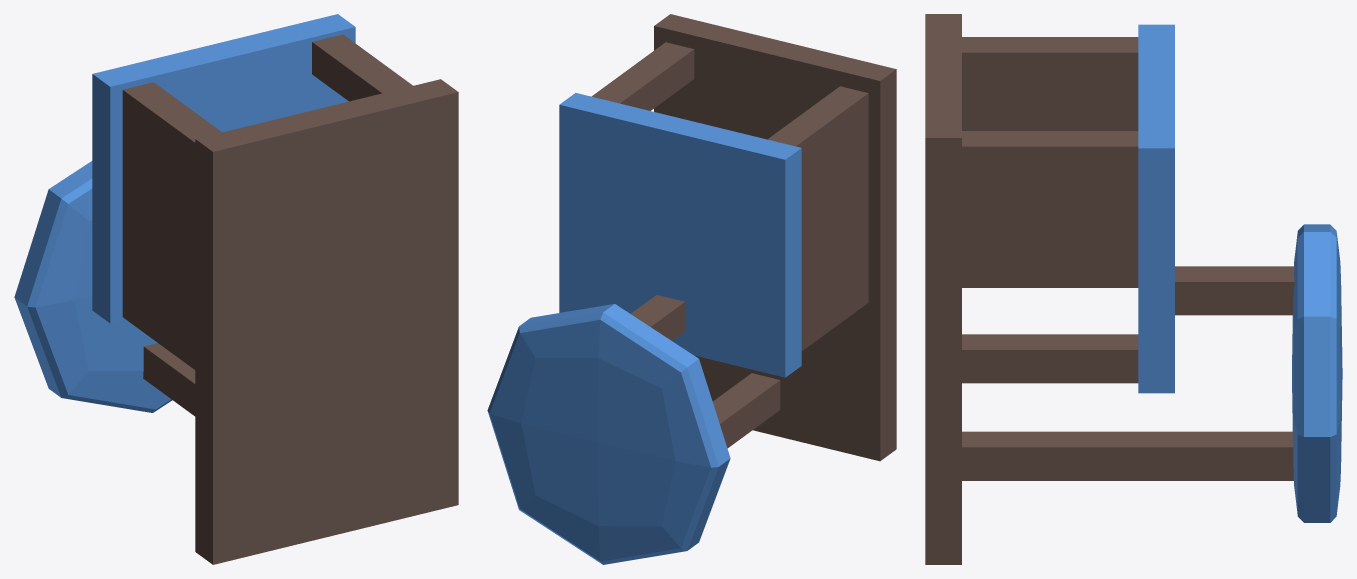
The model's file is AirportToy.fbx.
3 views of the same model, side by side, from view 1: azimuth 30°, elevation 25°; view 2: azimuth 150°, elevation 25°; view 3: azimuth 270°, elevation 25° (orthographic). The views are drawn at different scales.
Parts seen in each view (by area): view 1: Airport; view 2: Airport; view 3: Airport.
Boxes of the visible parts, x1,y1,x2,y2 form: Airport: [14, 14, 458, 564]; Airport: [487, 14, 896, 564]; Airport: [925, 14, 1342, 564].
Size of the model in its own units: 409 by 662 by 569.
